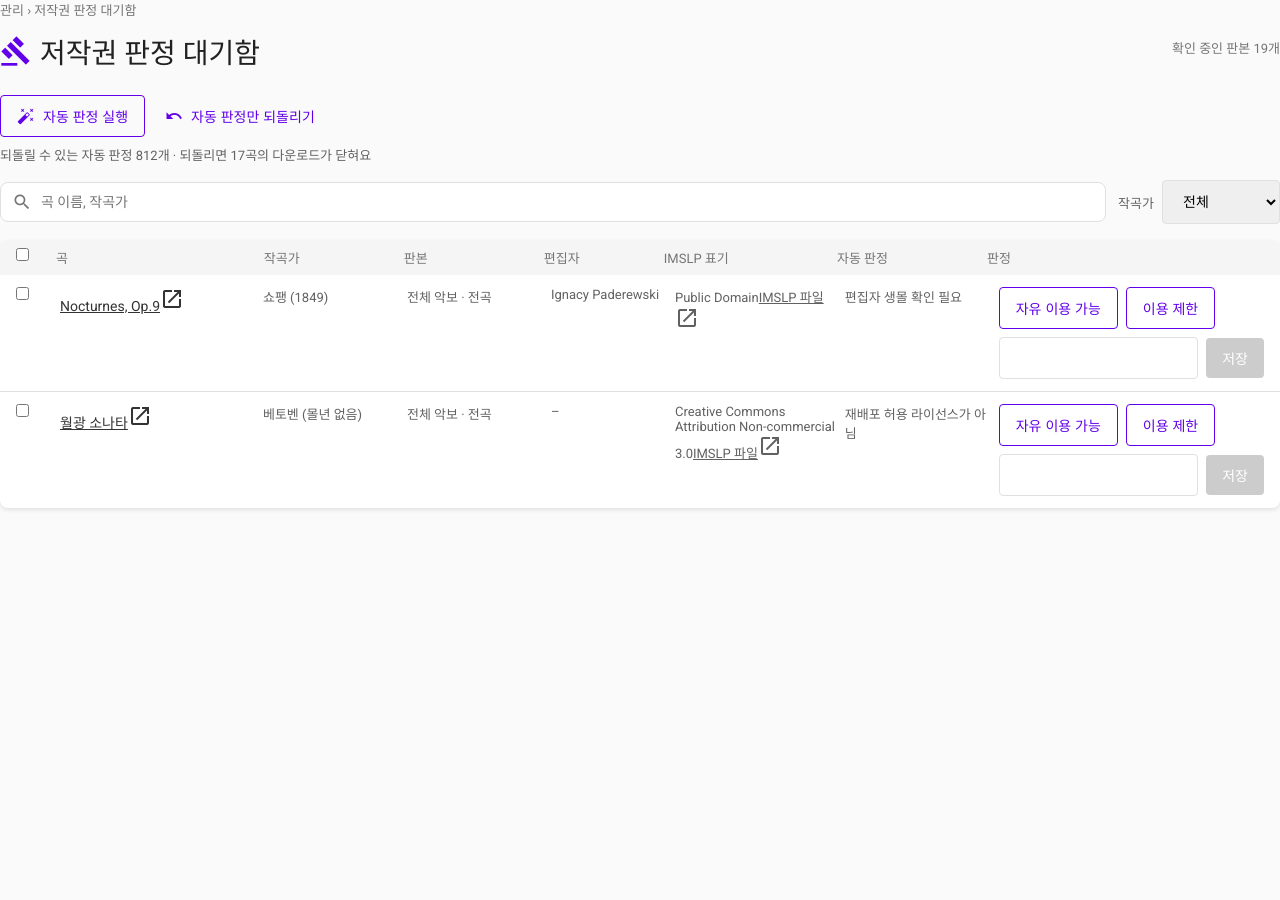
Test: 대기함 — 되돌린 직후의 창 (02 §5-8-1 화면 계약 2-1·2-2) › 그래서 연타가 불가능하다 — 두 번째 요청이 나가지 않고 결과 안내가 덮이지 않는다
This screenshot has width=1280, height=900.
Click the button "자동 판정만 되돌리기". click: (240, 116)
box: [153,98,327,134]
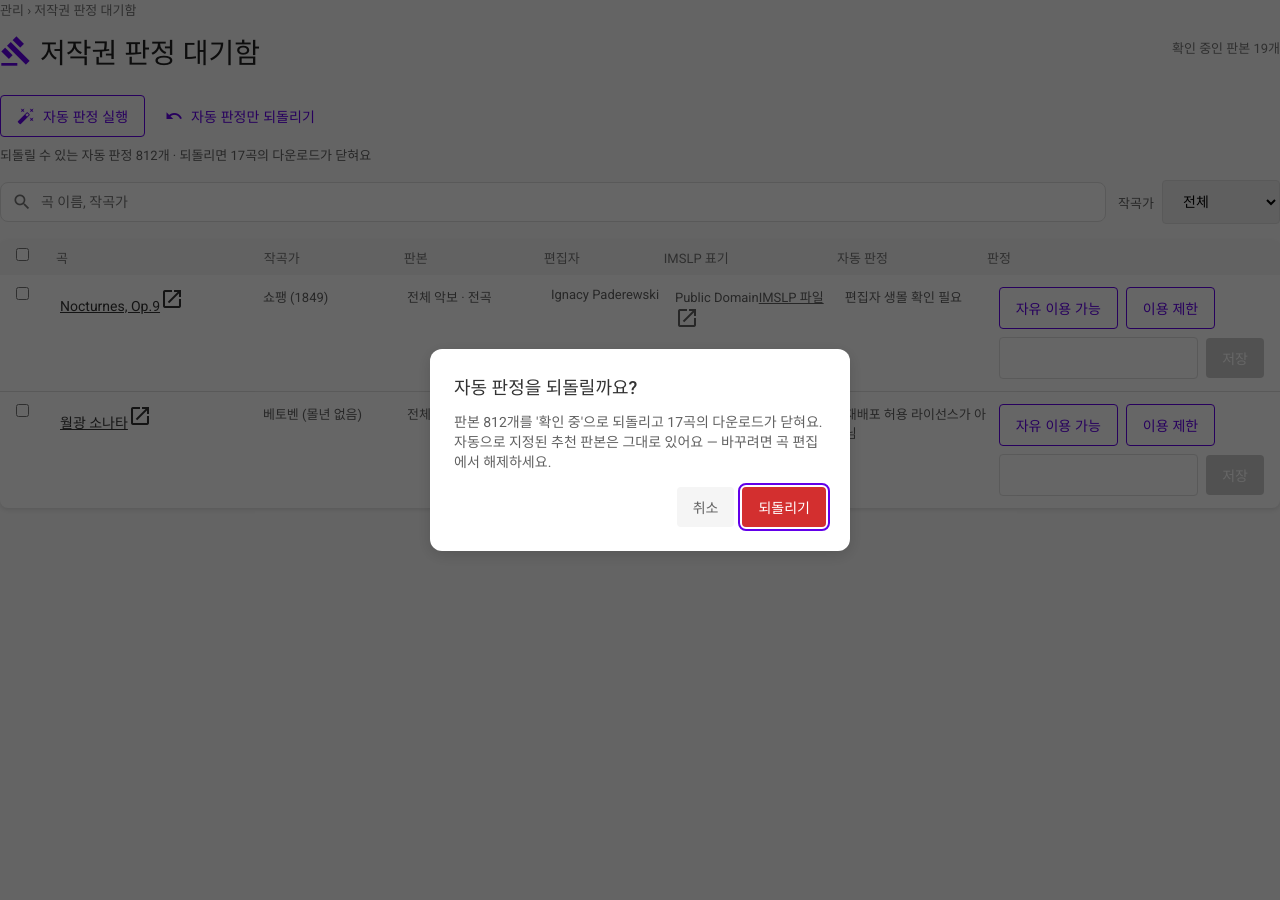
Click the button "되돌리기". click: (784, 507)
box: [742,487,826,527]
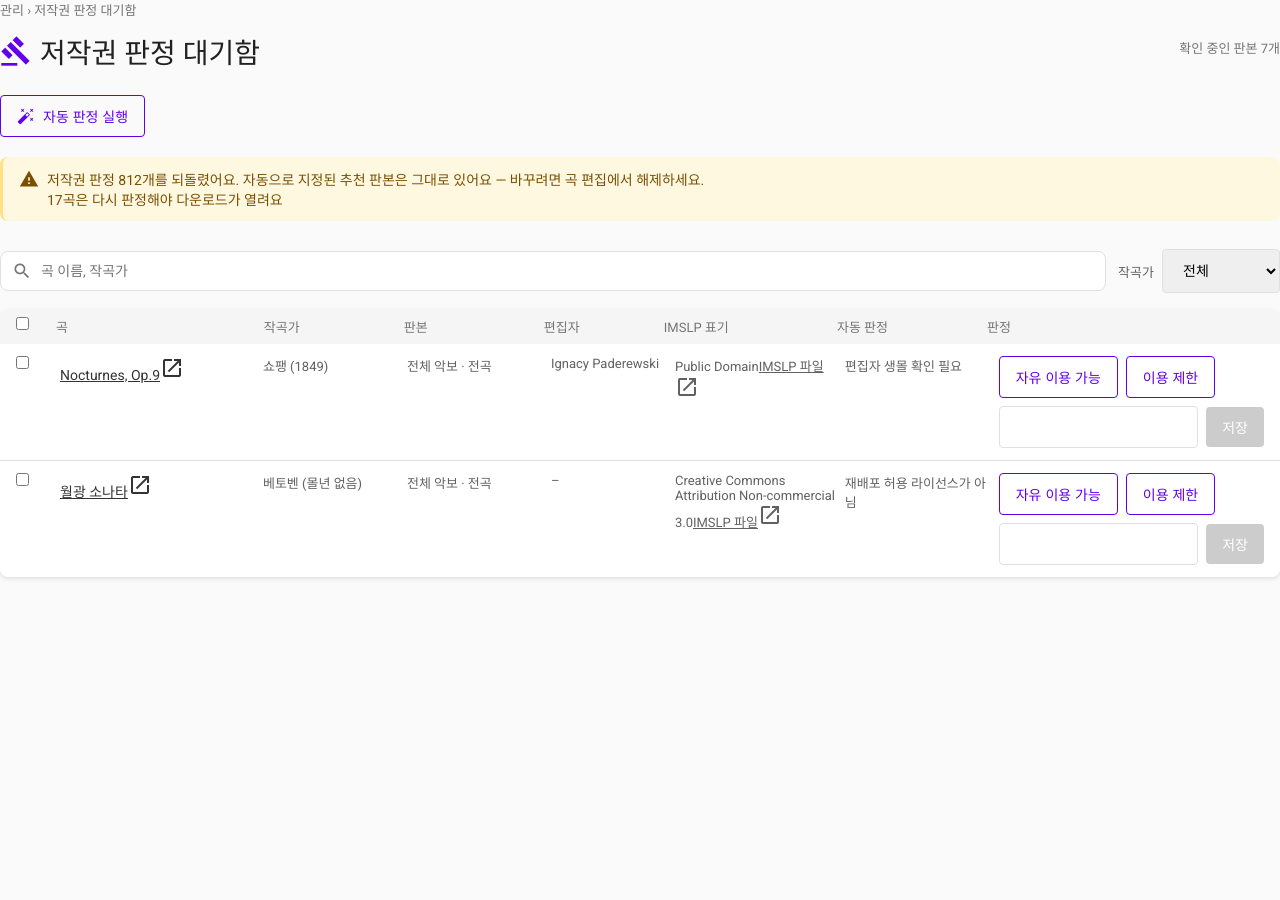
Result: the button "자동 판정만 되돌리기" is gone
Result: the text "확인 중인 판본 7개" is shown at [1179,38,1279,56]
Result: the text "저작권 판정 812개를 되돌렸어요" is shown at [47,172,704,188]
